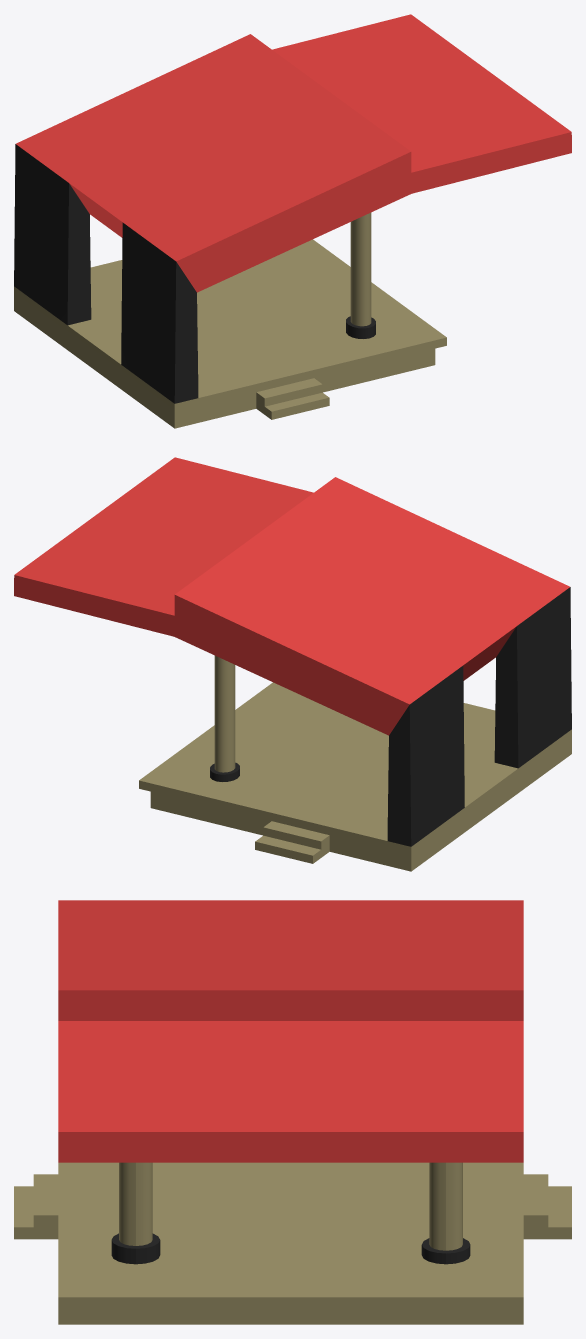
The model's file is TrainStation.fbx.
3 renders of one model, top to bottom at view 1: azimuth 30°, elevation 25°; view 2: azimuth 150°, elevation 25°; view 3: azimuth 270°, elevation 25°, orthographic. The views are drawn at different scales.
Visible parts, largest first — view 1: Cube.008; view 2: Cube.008; view 3: Cube.008.
Part boxes in pixels (x1,y1,x2,y2): Cube.008: (14,14,571,428); Cube.008: (14,457,571,871); Cube.008: (14,900,571,1324).
Bounding box in the file's own units: 1342 × 708 × 1128.
